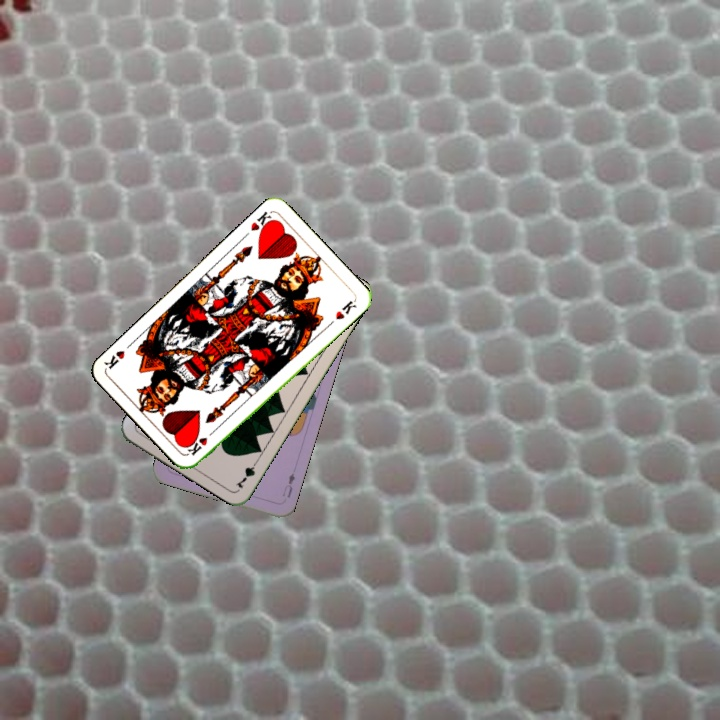EU: (278, 469, 298, 500)
G7: (231, 455, 262, 491)
HK: (183, 425, 219, 458), (247, 207, 278, 237)
